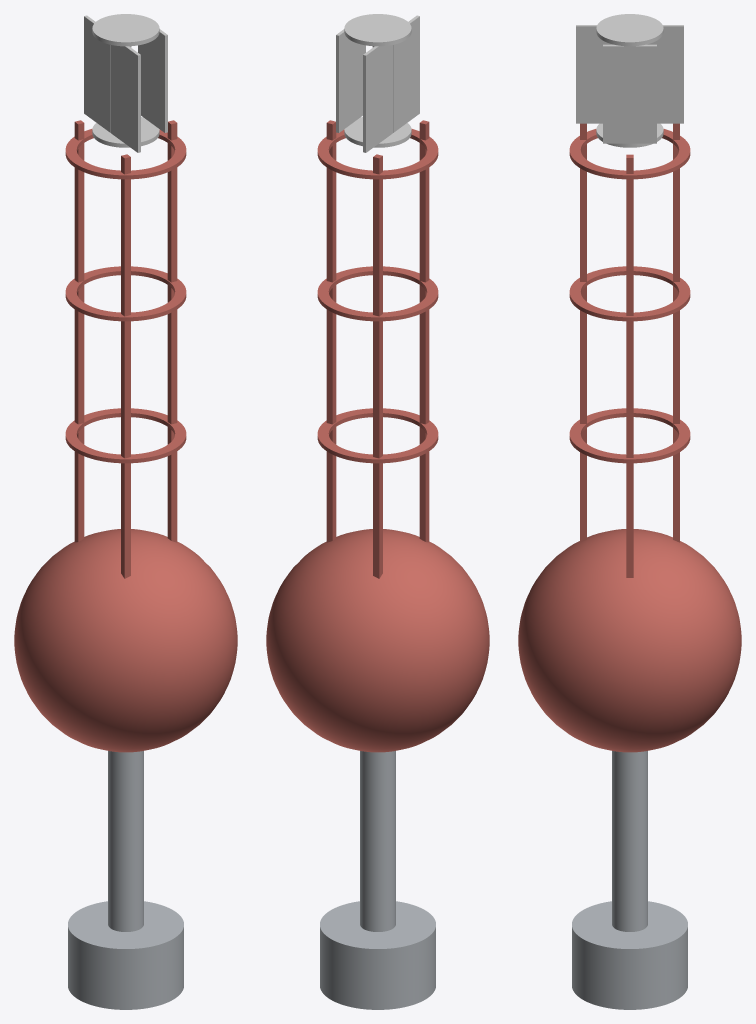
The model's file is step_04.glb.
3 views of the same model, side by side, from view 1: azimuth 30°, elevation 25°; view 2: azimuth 150°, elevation 25°; view 3: azimuth 270°, elevation 25° (orthographic).
Parts seen in each view (by area): view 1: part__steel spherical float, part__lattice tower, part__tail and ballast, part__vertical axis wind turbine; view 2: part__steel spherical float, part__lattice tower, part__tail and ballast, part__vertical axis wind turbine; view 3: part__steel spherical float, part__tail and ballast, part__lattice tower, part__vertical axis wind turbine.
Boxes of the visible parts, bbox=[...] form: part__steel spherical float: bbox=[14, 529, 237, 752]; part__lattice tower: bbox=[65, 120, 186, 578]; part__tail and ballast: bbox=[68, 751, 183, 1009]; part__vertical axis wind turbine: bbox=[84, 14, 167, 152]; part__steel spherical float: bbox=[266, 529, 489, 752]; part__lattice tower: bbox=[317, 120, 438, 578]; part__tail and ballast: bbox=[320, 751, 435, 1009]; part__vertical axis wind turbine: bbox=[336, 14, 419, 152]; part__steel spherical float: bbox=[518, 529, 741, 752]; part__tail and ballast: bbox=[572, 751, 687, 1009]; part__lattice tower: bbox=[569, 123, 690, 577]; part__vertical axis wind turbine: bbox=[576, 14, 683, 147].
Bounding box in the file's own units: 499 × 2360 × 499.
